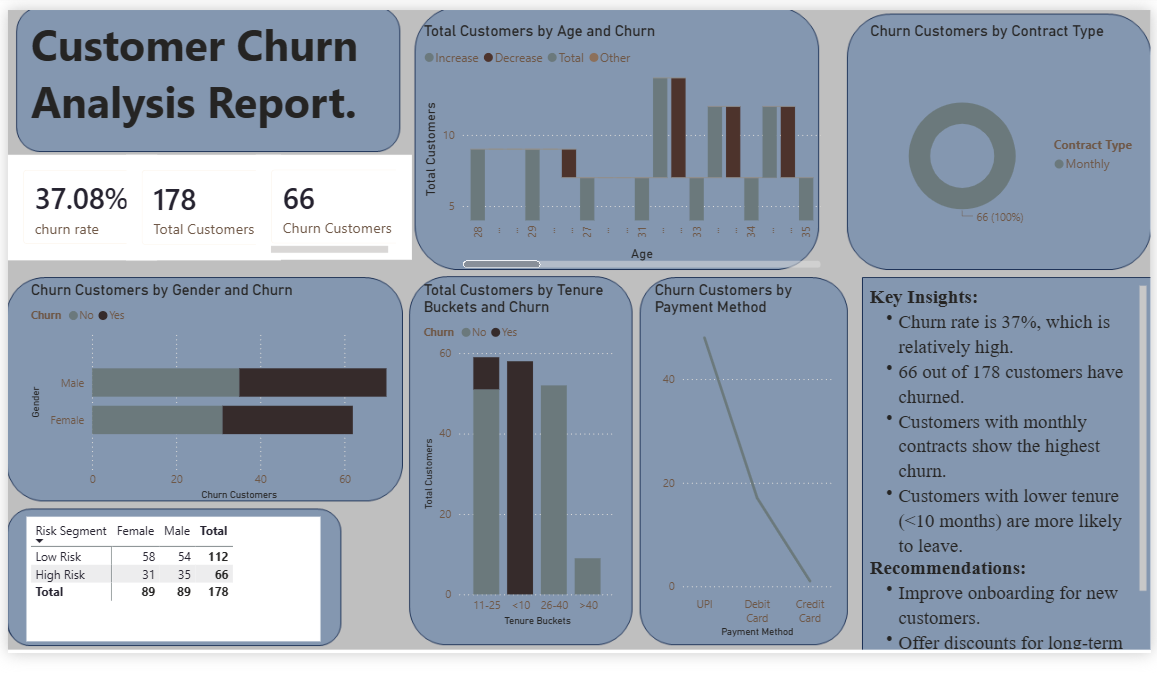

The page's visual inventory and layout, read from the dashboard file:
{"tool":"powerbi","page":{"name":"Page 2","canvas":[1280,720],"ordinal":0},"visuals":[{"type":"cardVisual","fields":{"Data":["Measure.churn rate"]},"box":[0,162.5,167,117.9],"z":0},{"type":"barChart","fields":{"Category":["Customer_Churn_Data.Gender"],"Y":["Measure.Churn Coustomers"],"Series":["Customer_Churn_Data.Churn"]},"box":[19.9,303.7,414.9,250.1],"z":1000},{"type":"pivotTable","fields":{"Rows":["Customer_Churn_Data.Risk Segment"],"Columns":["Customer_Churn_Data.Gender"],"Values":["Measure.Total Customer"]},"box":[20.7,567.2,329.3,139.7],"z":2000},{"type":"lineChart","fields":{"Y":["Measure.Churn Coustomers"],"Category":["Customer_Churn_Data.Payment Method"]},"box":[718.6,303.7,210.4,403],"z":3000},{"type":"lineStackedColumnComboChart","fields":{"Category":["Customer_Churn_Data.Tenure Buckets"],"Series":["Customer_Churn_Data.Churn"],"Y":["Measure.Total Customers"]},"box":[460.5,303.7,224.3,391.1],"z":4000},{"type":"waterfallChart","fields":{"Category":["Customer_Churn_Data.Age"],"Y":["Measure.Total Customers"],"Breakdown":["Customer_Churn_Data.Churn"]},"box":[460.5,13.9,454.6,279.9],"z":5000},{"type":"donutChart","fields":{"Y":["Measure.Churn Coustomers"],"Category":["Customer_Churn_Data.Contract Type"]},"box":[960.8,13.9,319.6,279.9],"z":6000},{"type":"textbox","box":[960.8,303.7,319.6,416.9],"z":7000},{"type":"cardVisual","fields":{"Data":["Measure.Total Customer"]},"box":[133,162.5,172.7,118.2],"z":8000},{"type":"cardVisual","fields":{"Data":["Measure.Churn Coustomers"]},"box":[278.4,162.5,173.9,117],"z":9000},{"type":"textbox","box":[20,0,416,164],"z":10000}]}

Visuals, with their boxes in screenshot pixels (x1, y1, x2, y2):
cardVisual - Measure.churn rate: box=[3, 151, 152, 256]
barChart - Customer_Churn_Data.Gender x Measure.Churn Coustomers: box=[21, 277, 391, 500]
pivotTable - Customer_Churn_Data.Risk Segment x Customer_Churn_Data.Gender: box=[21, 512, 315, 636]
lineChart - Measure.Churn Coustomers x Customer_Churn_Data.Payment Method: box=[644, 277, 831, 636]
lineStackedColumnComboChart - Customer_Churn_Data.Tenure Buckets x Customer_Churn_Data.Churn: box=[414, 277, 613, 625]
waterfallChart - Customer_Churn_Data.Age x Measure.Total Customers: box=[414, 18, 819, 268]
donutChart - Measure.Churn Coustomers x Customer_Churn_Data.Contract Type: box=[859, 18, 1144, 268]
textbox: box=[859, 277, 1144, 648]
cardVisual - Measure.Total Customer: box=[122, 151, 276, 256]
cardVisual - Measure.Churn Coustomers: box=[251, 151, 406, 255]
textbox: box=[21, 6, 392, 152]
